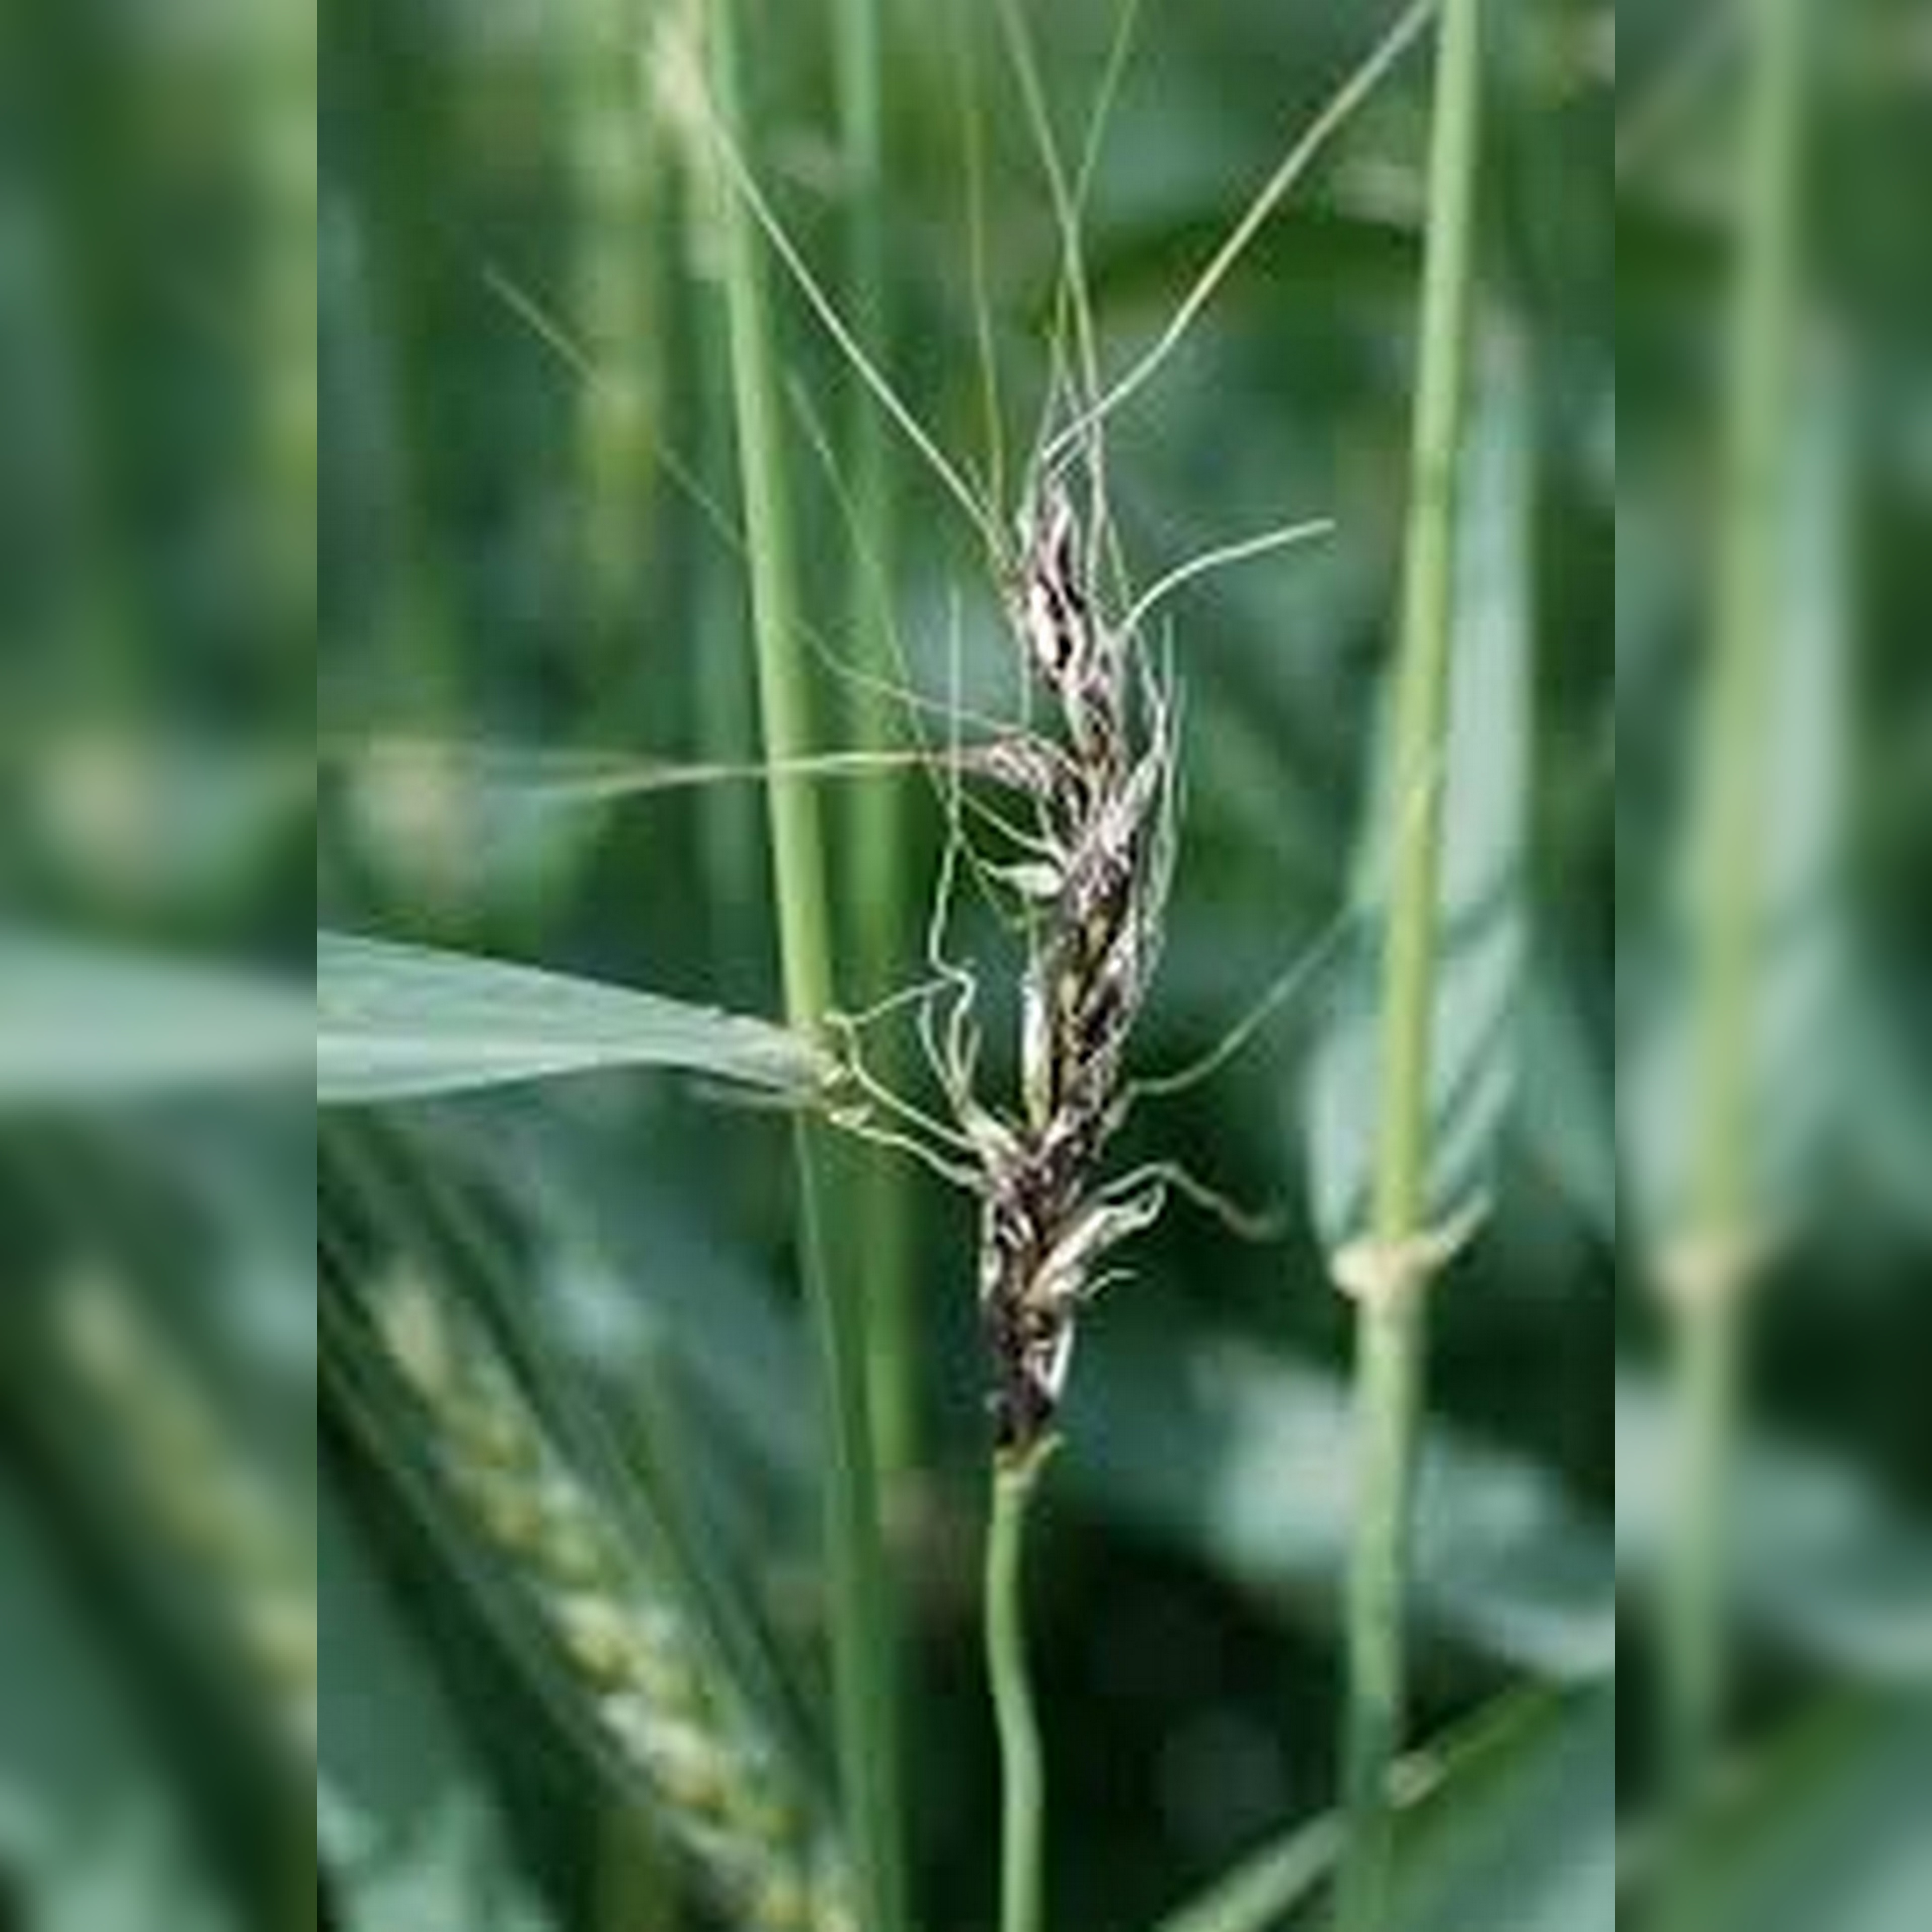Wheat Loose Smut: (847, 460, 1205, 1421)
